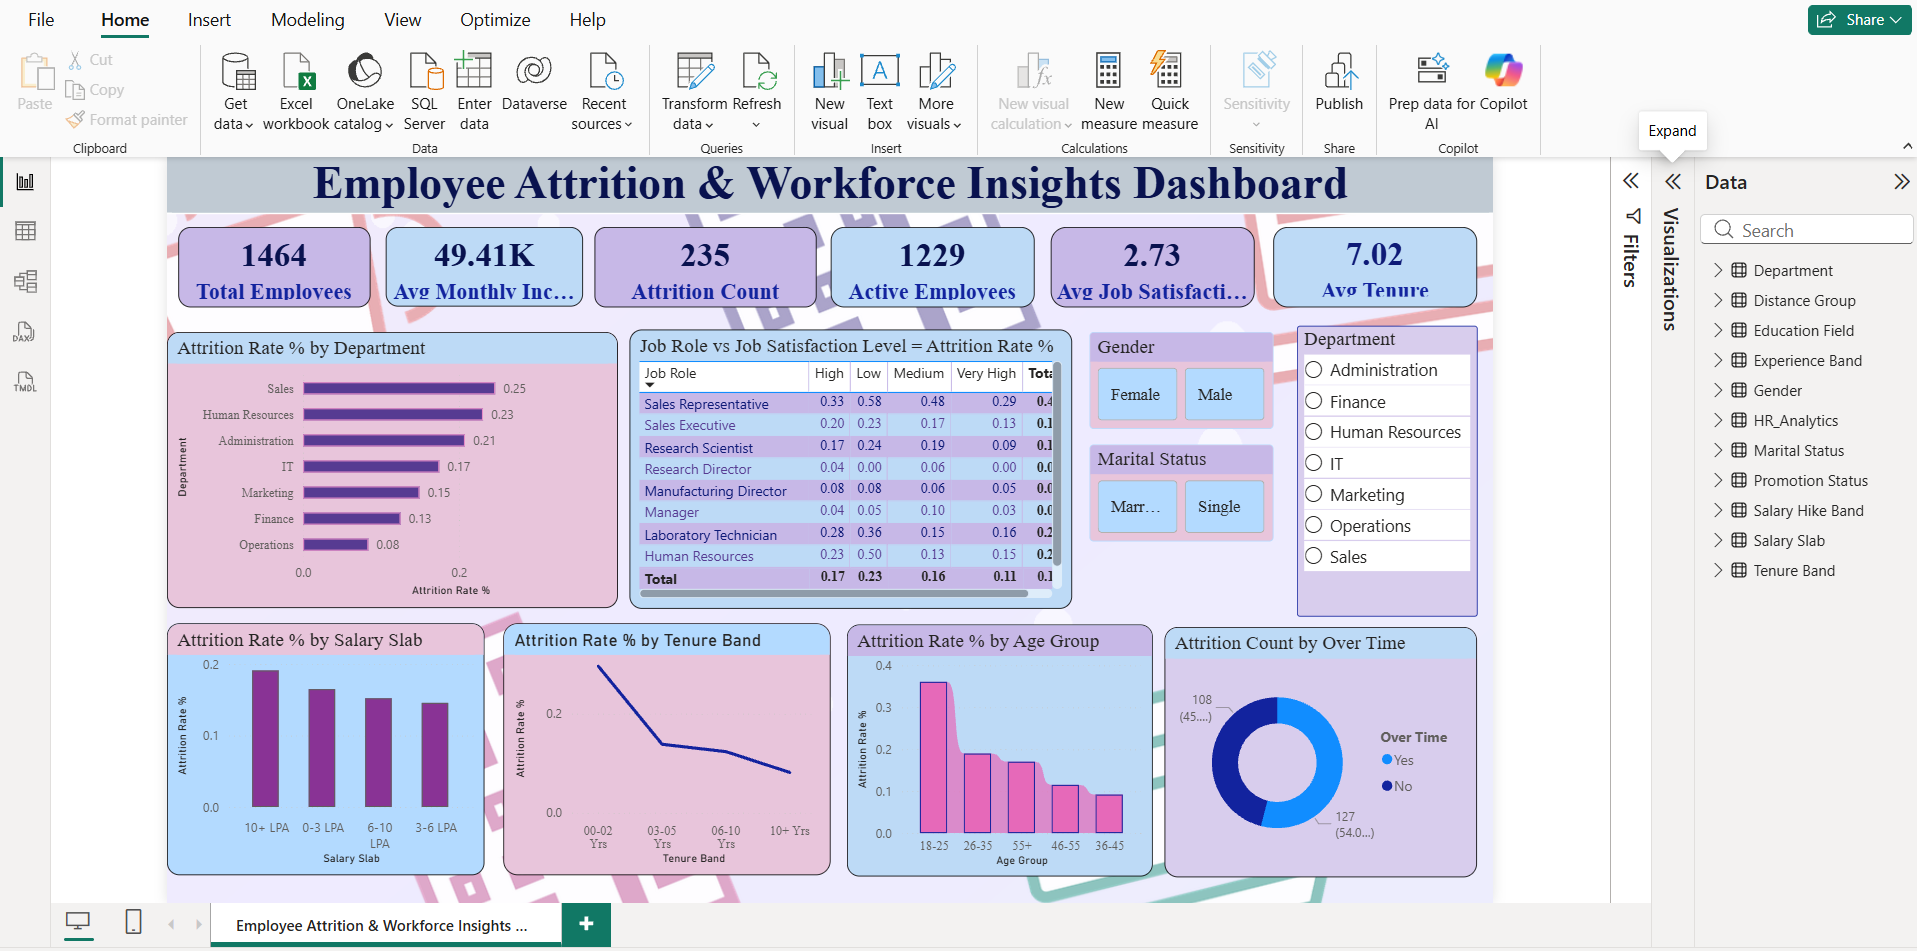

What the dashboard file says about the page in this screenshot:
{"tool":"powerbi","page":{"name":"Employee Attrition & Workforce Insights Dashboard","canvas":[1280,720],"ordinal":0},"visuals":[{"type":"textbox","title":"Employee Attrition & Workforce Insights Dashboard","box":[0,0,1280.6,54.8],"z":0},{"type":"card","fields":{"Values":["HR_Analytics.Total Employees"]},"box":[11.3,67.7,185.5,77.4],"z":1000},{"type":"card","fields":{"Values":["HR_Analytics.Avg Monthly Income"]},"box":[211.3,67.2,190.7,76.8],"z":2000},{"type":"card","fields":{"Values":["HR_Analytics.Attrition Count"]},"box":[412.9,67.7,214.5,77.4],"z":3000},{"type":"card","fields":{"Values":["HR_Analytics.Active Employees"]},"box":[640.3,67.7,196.8,77.4],"z":4000},{"type":"card","fields":{"Values":["HR_Analytics.Avg Job Satisfaction"]},"box":[853.2,67.7,196.8,77.4],"z":5000},{"type":"card","fields":{"Values":["HR_Analytics.Avg Tenure"]},"box":[1067.7,67,196.8,77.4],"z":6000},{"type":"clusteredBarChart","fields":{"Category":["HR_Analytics.Department"],"Y":["HR_Analytics.Attrition Rate %"]},"box":[0,169.4,435.5,266.1],"z":7000},{"type":"columnChart","fields":{"Category":["HR_Analytics.Age Group"],"Y":["HR_Analytics.Attrition Rate %"]},"box":[656.5,451.6,295.2,243.5],"z":8000},{"type":"donutChart","fields":{"Category":["HR_Analytics.Over Time"],"Y":["HR_Analytics.Attrition Count"]},"box":[962.9,453.2,301.6,241.9],"z":9000},{"type":"lineStackedColumnComboChart","fields":{"Category":["HR_Analytics.Salary Slab"],"Y":["HR_Analytics.Attrition Rate %"]},"box":[0,450,306.5,243.5],"z":10000},{"type":"lineChart","fields":{"Category":["HR_Analytics.Tenure Band"],"Y":["HR_Analytics.Attrition Rate %"]},"box":[324.2,450,316.1,243.5],"z":11000},{"type":"pivotTable","title":"Job Role vs Job Satisfaction Level = Attrition Rate %","fields":{"Rows":["HR_Analytics.Job Role"],"Columns":["HR_Analytics.Job Satisfaction level"],"Values":["HR_Analytics.Attrition Rate %"]},"box":[446.8,166.1,427.4,269.4],"z":12000},{"type":"advancedSlicerVisual","fields":{"Values":["HR_Analytics.Marital Status"]},"box":[890.3,277.4,177.4,93.5],"z":13000},{"type":"advancedSlicerVisual","fields":{"Values":["HR_Analytics.Gender"]},"box":[890.3,169.4,177.4,93.5],"z":14000},{"type":"listSlicer","fields":{"Values":["HR_Analytics.Department"]},"box":[1090.3,162.9,174.2,280.6],"z":15000}]}

Visuals, with their boxes on the page's 1280x720 design canvas (x1, y1, x2, y2). These are canvas units, not pixel positions in the 1917x951 screenshot, which may show the page scaled, cropped or inside an application window:
"Employee Attrition & Workforce Insights Dashboard" textbox: bbox(0, 0, 1281, 55)
card - HR_Analytics.Total Employees: bbox(11, 68, 197, 145)
card - HR_Analytics.Avg Monthly Income: bbox(211, 67, 402, 144)
card - HR_Analytics.Attrition Count: bbox(413, 68, 627, 145)
card - HR_Analytics.Active Employees: bbox(640, 68, 837, 145)
card - HR_Analytics.Avg Job Satisfaction: bbox(853, 68, 1050, 145)
card - HR_Analytics.Avg Tenure: bbox(1068, 67, 1264, 144)
clusteredBarChart - HR_Analytics.Department x HR_Analytics.Attrition Rate %: bbox(0, 169, 436, 436)
columnChart - HR_Analytics.Age Group x HR_Analytics.Attrition Rate %: bbox(656, 452, 952, 695)
donutChart - HR_Analytics.Over Time x HR_Analytics.Attrition Count: bbox(963, 453, 1264, 695)
lineStackedColumnComboChart - HR_Analytics.Salary Slab x HR_Analytics.Attrition Rate %: bbox(0, 450, 306, 694)
lineChart - HR_Analytics.Tenure Band x HR_Analytics.Attrition Rate %: bbox(324, 450, 640, 694)
"Job Role vs Job Satisfaction Level = Attrition Rate %" pivotTable: bbox(447, 166, 874, 436)
advancedSlicerVisual - HR_Analytics.Marital Status: bbox(890, 277, 1068, 371)
advancedSlicerVisual - HR_Analytics.Gender: bbox(890, 169, 1068, 263)
listSlicer - HR_Analytics.Department: bbox(1090, 163, 1264, 444)
